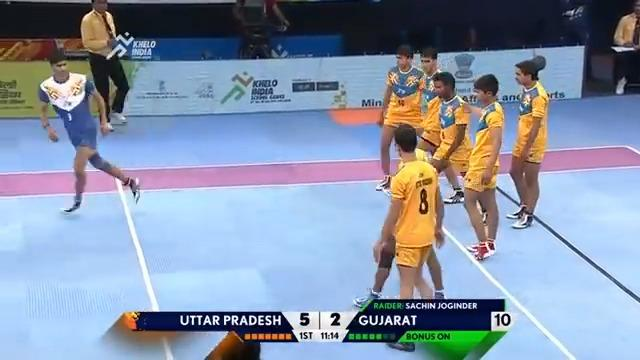Player: (392, 129, 427, 291), (513, 57, 543, 215), (474, 77, 505, 223), (435, 77, 462, 199), (388, 49, 423, 136), (423, 52, 453, 86)
Raider: (35, 48, 143, 216)
referee: (79, 0, 130, 131), (611, 0, 639, 94)
